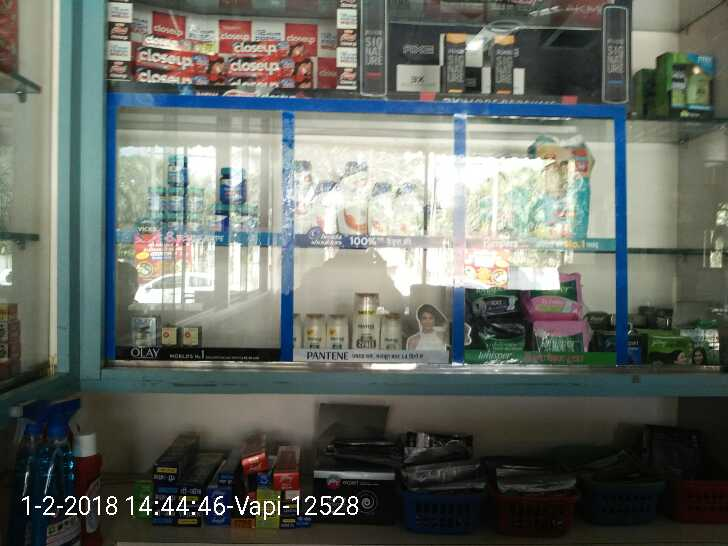beauty: (338, 161, 367, 237), (349, 291, 377, 353), (392, 180, 422, 236), (367, 176, 393, 240), (307, 180, 338, 233), (298, 306, 326, 349), (322, 312, 348, 347), (380, 308, 402, 349)
pharmacy: (542, 157, 591, 247), (514, 277, 593, 317), (536, 317, 594, 362), (214, 160, 248, 209), (481, 323, 526, 355), (166, 149, 188, 189), (136, 185, 165, 213), (172, 186, 199, 215)
